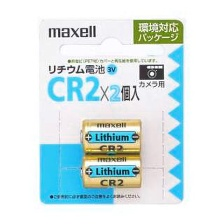battery: (77, 116, 143, 156), (77, 153, 144, 191)
book: (34, 14, 187, 206)
